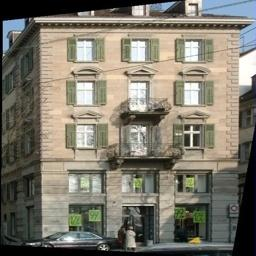building: (38, 0, 242, 256)
